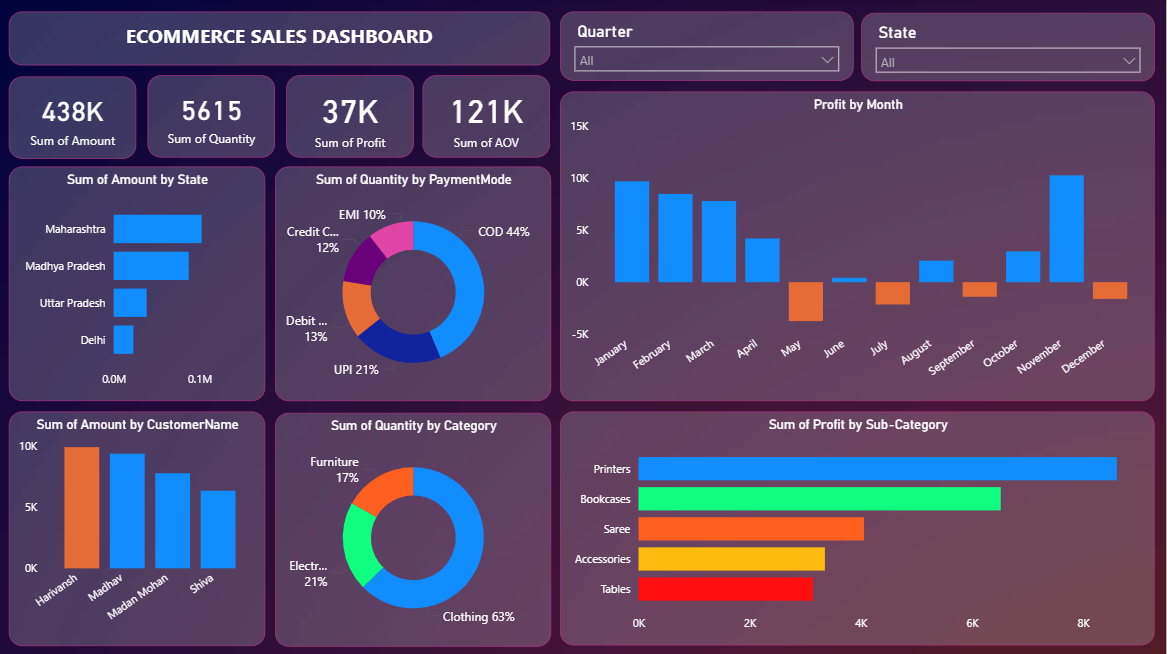

The page's visual inventory and layout, read from the dashboard file:
{"tool":"powerbi","page":{"name":"Page 1","canvas":[1280,720],"ordinal":0},"visuals":[{"type":"textbox","box":[9.7,13.3,594.8,59.1],"z":0},{"type":"columnChart","title":"Profit by Month","fields":{"Category":["Orders.Order Date.Variation.Date Hierarchy.Month"],"Y":["Sum(Details.Profit)"]},"box":[614.8,101.5,653.2,340.3],"z":1000},{"type":"barChart","fields":{"Category":["Details.Sub-Category"],"Y":["Sum(Details.Profit)"]},"box":[614.8,452.8,653.2,256.6],"z":2000},{"type":"donutChart","fields":{"Category":["Details.Category"],"Y":["Sum(Details.Quantity)"]},"box":[301.9,454.2,303.3,256.6],"z":3000},{"type":"donutChart","fields":{"Y":["Sum(Details.Quantity)"],"Category":["Details.PaymentMode"]},"box":[301.9,183.9,303.3,258],"z":4000},{"type":"card","fields":{"Values":["Sum(Details.Amount)"]},"box":[9.7,84.5,140,90.5],"z":5000},{"type":"card","fields":{"Values":["Sum(Details.Quantity)"]},"box":[161.7,83.2,139.9,90.5],"z":6000},{"type":"card","fields":{"Values":["Sum(Details.Profit)"]},"box":[313.7,83.2,139.9,90.5],"z":7000},{"type":"card","fields":{"Values":["Sum(Details.AOV)"]},"box":[464.5,83.2,139.9,90.5],"z":8000},{"type":"barChart","fields":{"Category":["Orders.State"],"Y":["Sum(Details.Amount)"]},"box":[9.6,183.9,281.3,258],"z":9000},{"type":"columnChart","fields":{"Category":["Orders.CustomerName"],"Y":["Sum(Details.Amount)"]},"box":[9.6,452.8,281.3,258],"z":10000},{"type":"slicer","fields":{"Values":["Orders.Order Date.Variation.Date Hierarchy.Quarter"]},"box":[614.8,13.7,322,76],"z":11000},{"type":"slicer","fields":{"Values":["Orders.State"]},"box":[945.5,15.1,322.5,75.5],"z":12000}]}

Visuals, with their boxes in screenshot pixels (x1, y1, x2, y2), scaled from the page's 1280x720 canvas onto the 1167x654 screenshot:
textbox: pyautogui.locateOnScreen(9, 12, 551, 66)
"Profit by Month" columnChart: pyautogui.locateOnScreen(561, 92, 1156, 401)
barChart - Details.Sub-Category x Sum(Details.Profit): pyautogui.locateOnScreen(561, 411, 1156, 644)
donutChart - Details.Category x Sum(Details.Quantity): pyautogui.locateOnScreen(275, 413, 552, 646)
donutChart - Sum(Details.Quantity) x Details.PaymentMode: pyautogui.locateOnScreen(275, 167, 552, 401)
card - Sum(Details.Amount): pyautogui.locateOnScreen(9, 77, 136, 159)
card - Sum(Details.Quantity): pyautogui.locateOnScreen(147, 76, 275, 158)
card - Sum(Details.Profit): pyautogui.locateOnScreen(286, 76, 414, 158)
card - Sum(Details.AOV): pyautogui.locateOnScreen(423, 76, 551, 158)
barChart - Orders.State x Sum(Details.Amount): pyautogui.locateOnScreen(9, 167, 265, 401)
columnChart - Orders.CustomerName x Sum(Details.Amount): pyautogui.locateOnScreen(9, 411, 265, 646)
slicer - Orders.Order Date.Variation.Date Hierarchy.Quarter: pyautogui.locateOnScreen(561, 12, 854, 81)
slicer - Orders.State: pyautogui.locateOnScreen(862, 14, 1156, 82)
